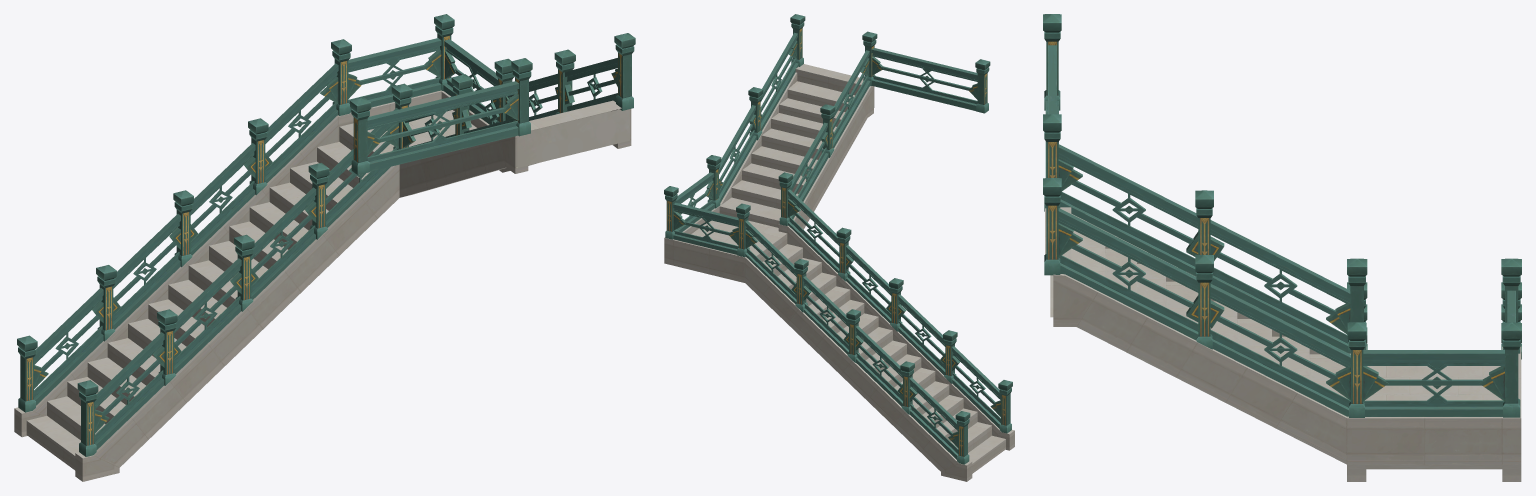
File: Homeworld_Interior_Fd_Room_P_Stair_01_01_Vo.fbx
3 views of the same model, side by side, from view 1: azimuth 30°, elevation 25°; view 2: azimuth 150°, elevation 25°; view 3: azimuth 270°, elevation 25° (orthographic). The views are drawn at different scales.
Parts seen in each view (by area): view 1: Homeworld_Interior_Fd_Room_P_Stair_01_01_Vo; view 2: Homeworld_Interior_Fd_Room_P_Stair_01_01_Vo; view 3: Homeworld_Interior_Fd_Room_P_Stair_01_01_Vo.
Boxes of the visible parts, x1,y1,x2,y2 form: Homeworld_Interior_Fd_Room_P_Stair_01_01_Vo: [14, 14, 635, 481]; Homeworld_Interior_Fd_Room_P_Stair_01_01_Vo: [664, 14, 1014, 481]; Homeworld_Interior_Fd_Room_P_Stair_01_01_Vo: [1043, 14, 1521, 481].
Size of the model in its own units: 6.37 by 6.03 by 4.8.
